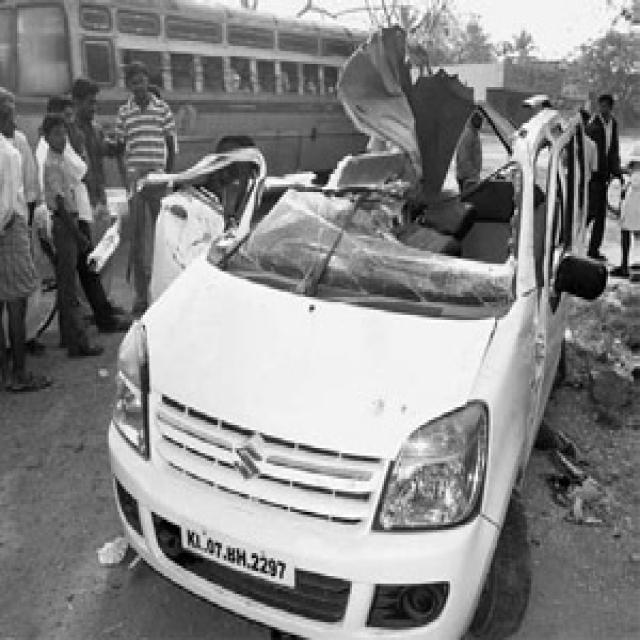accident: (109, 30, 606, 637)
bus: (0, 0, 366, 174)
